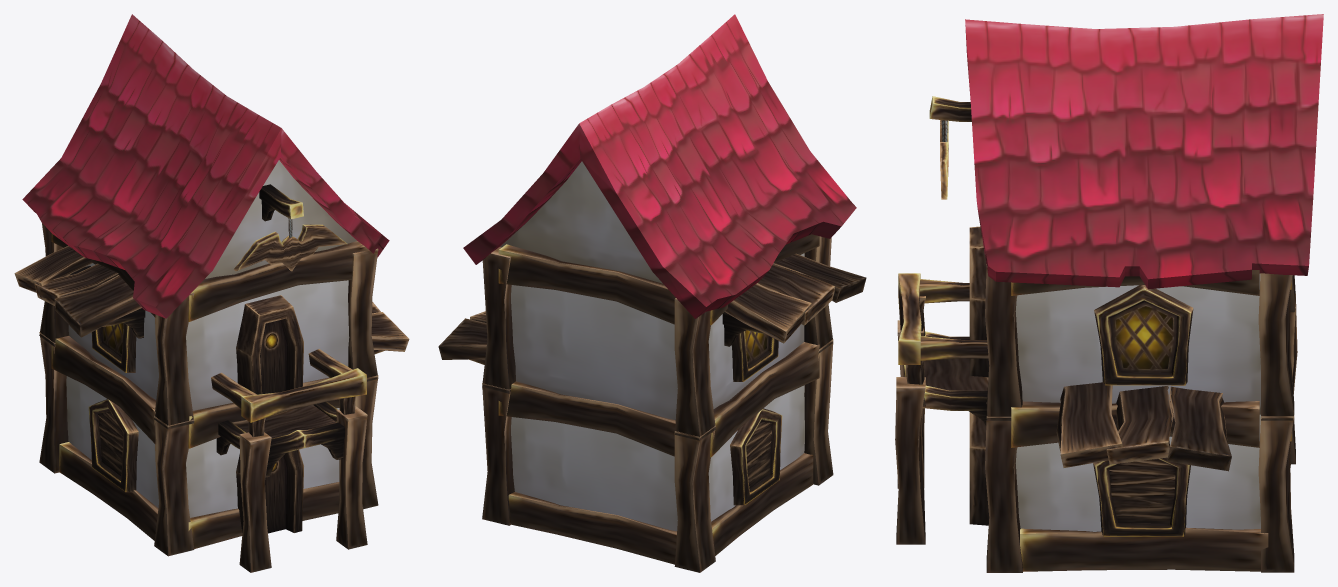
Rendered from Vampire_Village_Building_01.FBX.
3 views of the same model, side by side, from view 1: azimuth 30°, elevation 25°; view 2: azimuth 150°, elevation 25°; view 3: azimuth 270°, elevation 25° (orthographic). The views are drawn at different scales.
Parts seen in each view (by area): view 1: Vampire_Village_Building_01; view 2: Vampire_Village_Building_01; view 3: Vampire_Village_Building_01.
Part boxes in pixels (box(x1,y1,x2,y2)): Vampire_Village_Building_01: box(14, 14, 409, 572); Vampire_Village_Building_01: box(438, 14, 866, 572); Vampire_Village_Building_01: box(895, 14, 1323, 572).
Bounding box in the file's own units: 671 × 789 × 616.
